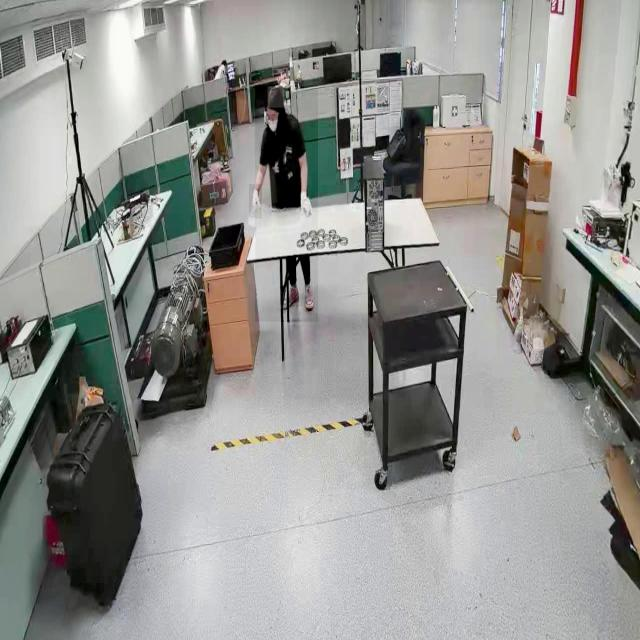face_mask: (265, 111, 279, 141)
hand_glove: (298, 182, 316, 226), (248, 184, 262, 219)
head_nohelmet: (267, 86, 285, 108)
person: (254, 85, 318, 323)
shoes: (276, 280, 302, 315), (302, 282, 316, 314)
